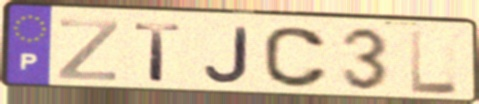3: (339, 25, 392, 94)
C: (261, 25, 332, 91)
J: (202, 25, 252, 85)
L: (408, 27, 461, 96)
T: (132, 21, 185, 84)
Z: (55, 17, 123, 83)
